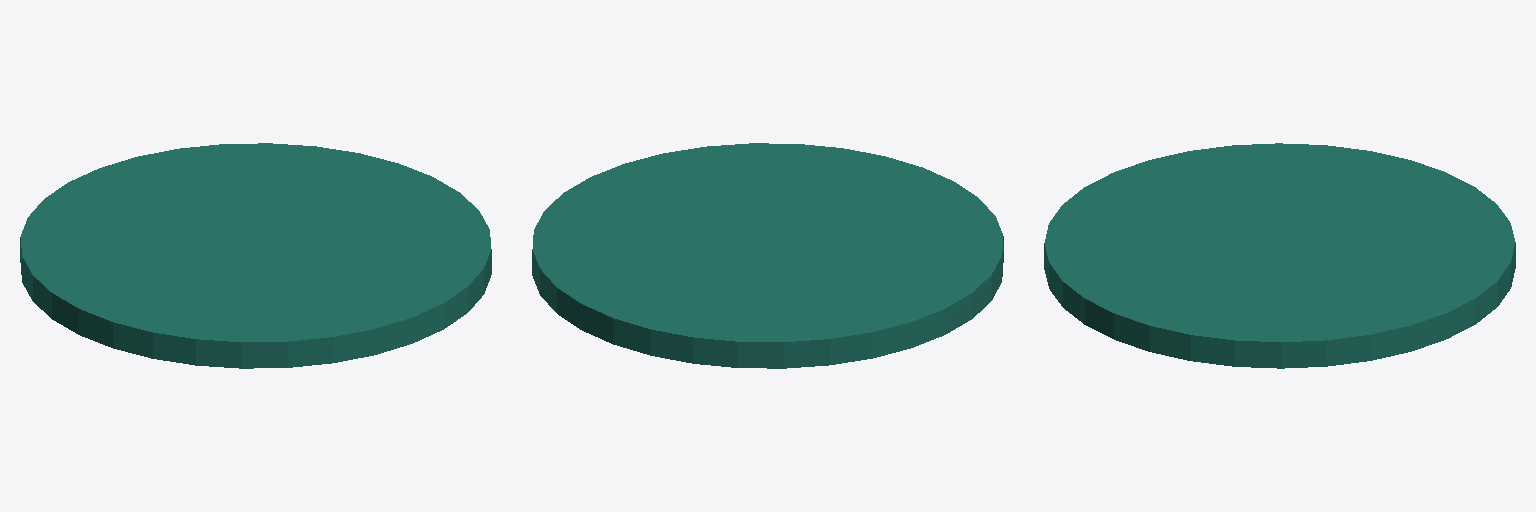
robot.urdf — Interference:
<?xml version="1.0"?>
<robot name="Interference">
  <link name="baseLink">
    <inertial>
      <origin xyz="0.0 0.0 0.0" rpy="0.0 0.0 0.0"/>
      <inertia ixx="0.0" ixy="0.0" ixz="0.0" iyy="0.0" iyz="0.0" izz="0.0"/>
      <mass value="0"/>
    </inertial>
    <visual>
      <origin xyz="0.0 0.0 0.0" rpy="0.0 0.0 -0.9776119307175781"/>
      <geometry>
        <cylinder radius="0.08121131547184096" length="0.01"/>
      </geometry>
      <material name="color">
        <color rgba="0.19557295268993402 0.5064727196483063 0.45531568155211233 1.0"/>
      </material>
    </visual>
  </link>
</robot>

--- What the picture shows (computed from the rendered views, not written in the file) ---
3 views of the same robot in one strip: view 1: azimuth 30°, elevation 25°; view 2: azimuth 150°, elevation 25°; view 3: azimuth 270°, elevation 25° (orthographic).
Model Interference with 1 links and 0 joints (none), rooted at baseLink, posed all joints at 0.
Visible links, largest first — view 1: baseLink; view 2: baseLink; view 3: baseLink.
Link boxes in pixels (<box>): baseLink: <box>20,143,491,368</box>; baseLink: <box>532,143,1003,368</box>; baseLink: <box>1044,143,1515,368</box>.
Size in the robot's own frame: 0.1624 by 0.1624 by 0.01 metres.
Geometry: primitives only (box / cylinder / sphere), no mesh files.